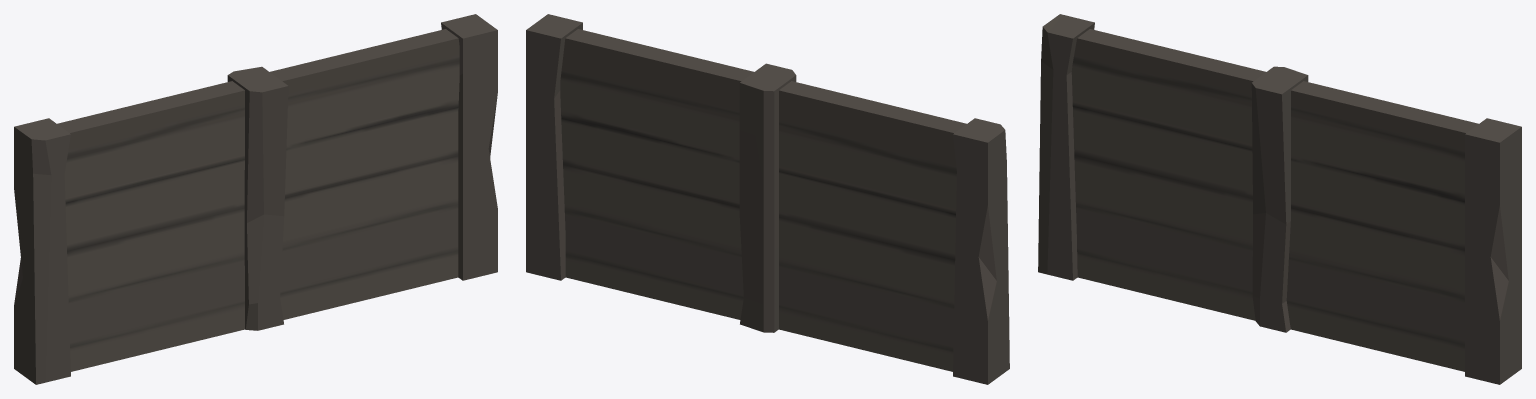
The model's file is SM_Env_Mine_Wall_01.glb.
The picture shows the model from 3 angles, left to right: view 1: azimuth 30°, elevation 25°; view 2: azimuth 150°, elevation 25°; view 3: azimuth 330°, elevation 25°; orthographic projection.
Visible parts, largest first — view 1: SM_Env_Mine_Wall_01; view 2: SM_Env_Mine_Wall_01; view 3: SM_Env_Mine_Wall_01.
Part boxes in pixels (box(x1,y1,x2,y2)): SM_Env_Mine_Wall_01: box(14, 14, 497, 384); SM_Env_Mine_Wall_01: box(526, 14, 1009, 384); SM_Env_Mine_Wall_01: box(1038, 14, 1521, 384).
Size of the model in its own units: 3 by 1.5 by 0.3215.
1 material, 1 textured.
